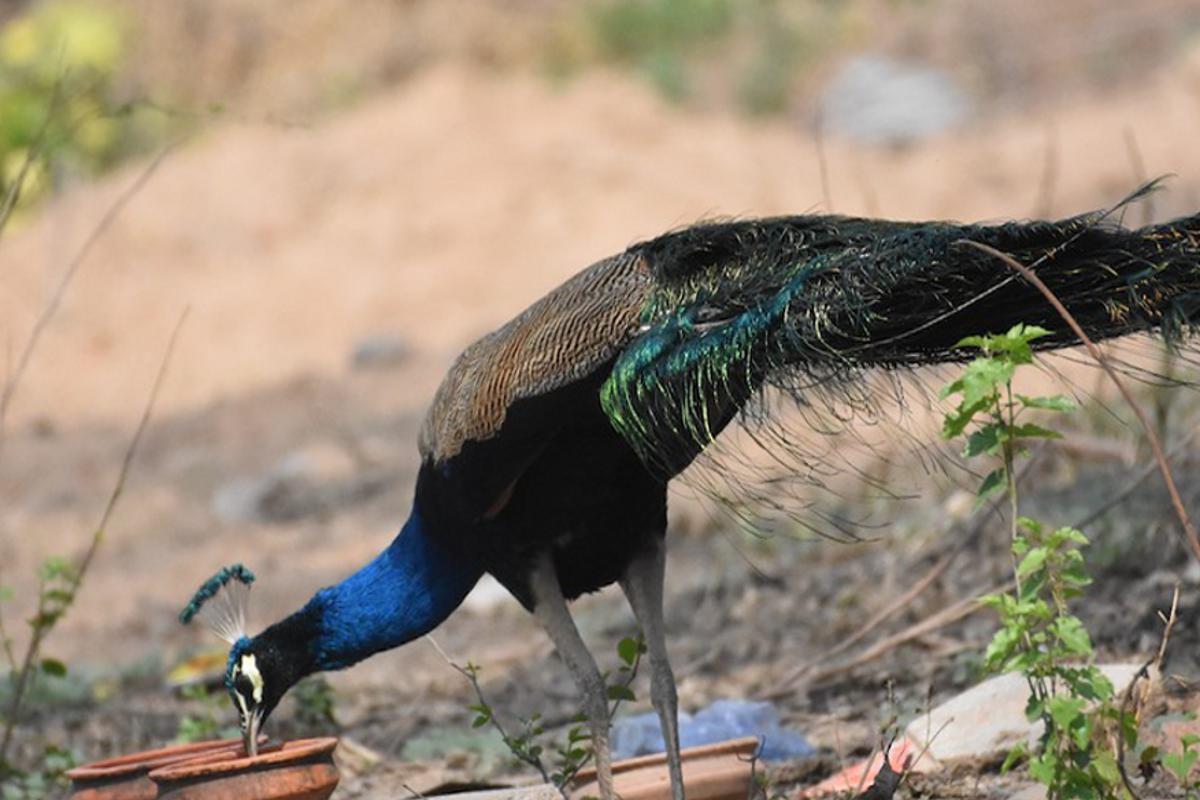peacock: (187, 190, 1163, 800)
